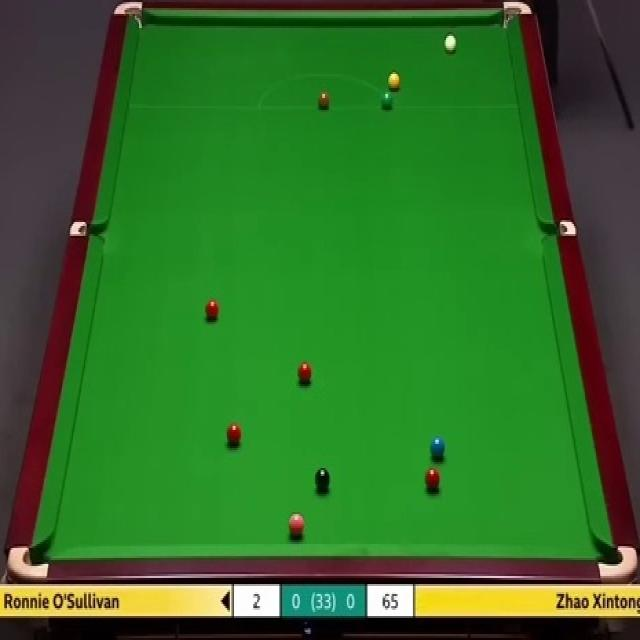pocket: (6, 542, 51, 582), (594, 542, 638, 580), (112, 0, 145, 34), (499, 0, 530, 32), (539, 218, 576, 240), (67, 220, 105, 235)
